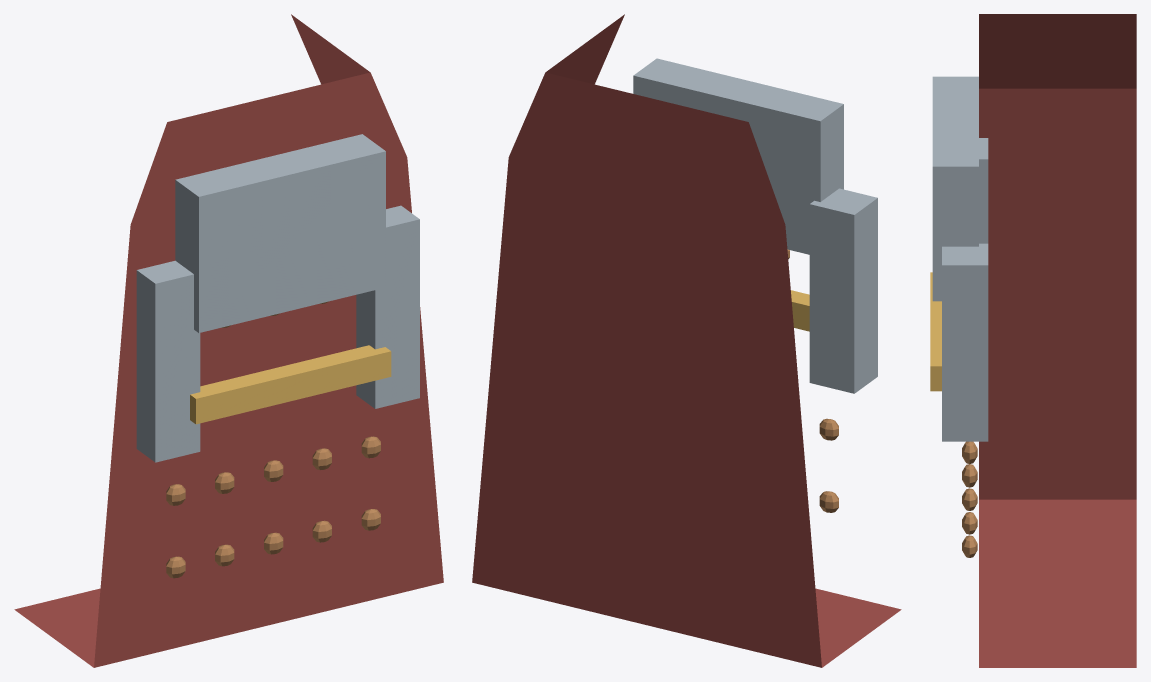
File: chilkhat.glb
3 views of the same model, side by side, from view 1: azimuth 30°, elevation 25°; view 2: azimuth 150°, elevation 25°; view 3: azimuth 270°, elevation 25° (orthographic).
Parts seen in each view (by area): view 1: Chilkhat; view 2: Chilkhat; view 3: Chilkhat.
Boxes of the visible parts, x1,y1,x2,y2 form: Chilkhat: (14, 14, 443, 667); Chilkhat: (472, 14, 901, 667); Chilkhat: (930, 14, 1136, 667).
Size of the model in its own units: 0.86 by 1.24 by 0.445.
